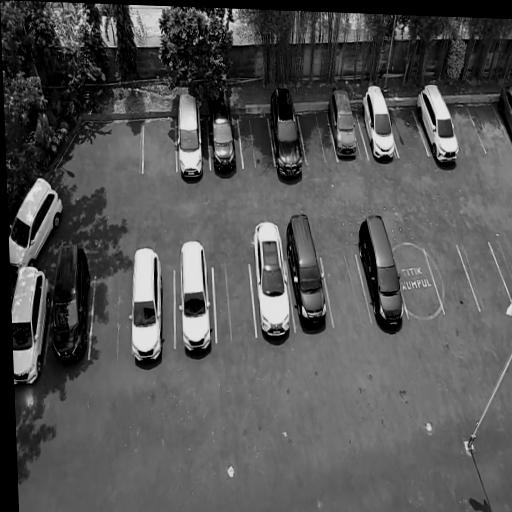Car: (353, 209, 411, 334), (8, 173, 68, 283), (279, 210, 330, 332), (48, 242, 91, 369), (252, 219, 295, 345), (411, 75, 465, 172), (12, 267, 53, 392), (177, 237, 214, 360), (130, 245, 164, 372), (358, 80, 401, 168), (267, 84, 306, 179), (324, 82, 363, 162), (207, 90, 239, 178), (176, 91, 205, 188), (496, 80, 512, 145)
Space Available: (458, 241, 512, 312), (213, 261, 257, 347), (394, 248, 445, 322), (424, 247, 479, 314), (321, 256, 371, 329), (90, 275, 132, 358), (467, 102, 512, 157), (298, 108, 337, 164), (388, 105, 429, 158), (447, 103, 486, 155), (239, 113, 275, 168), (143, 117, 177, 174), (491, 240, 512, 301)
